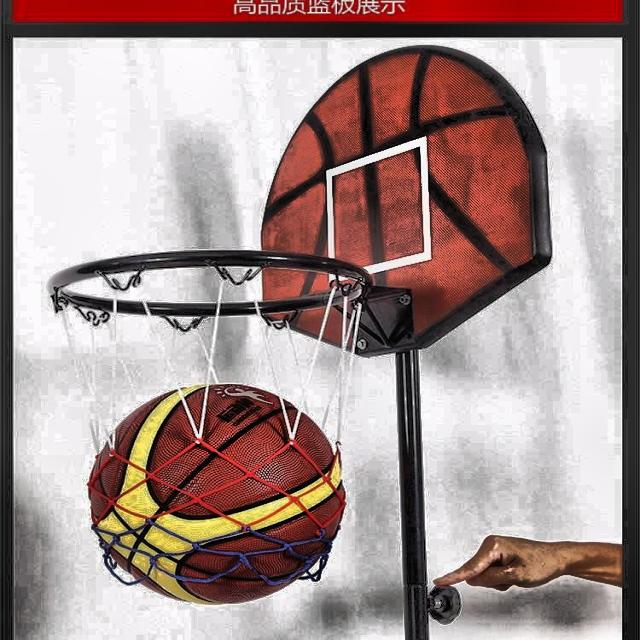board: (89, 382, 347, 606)
